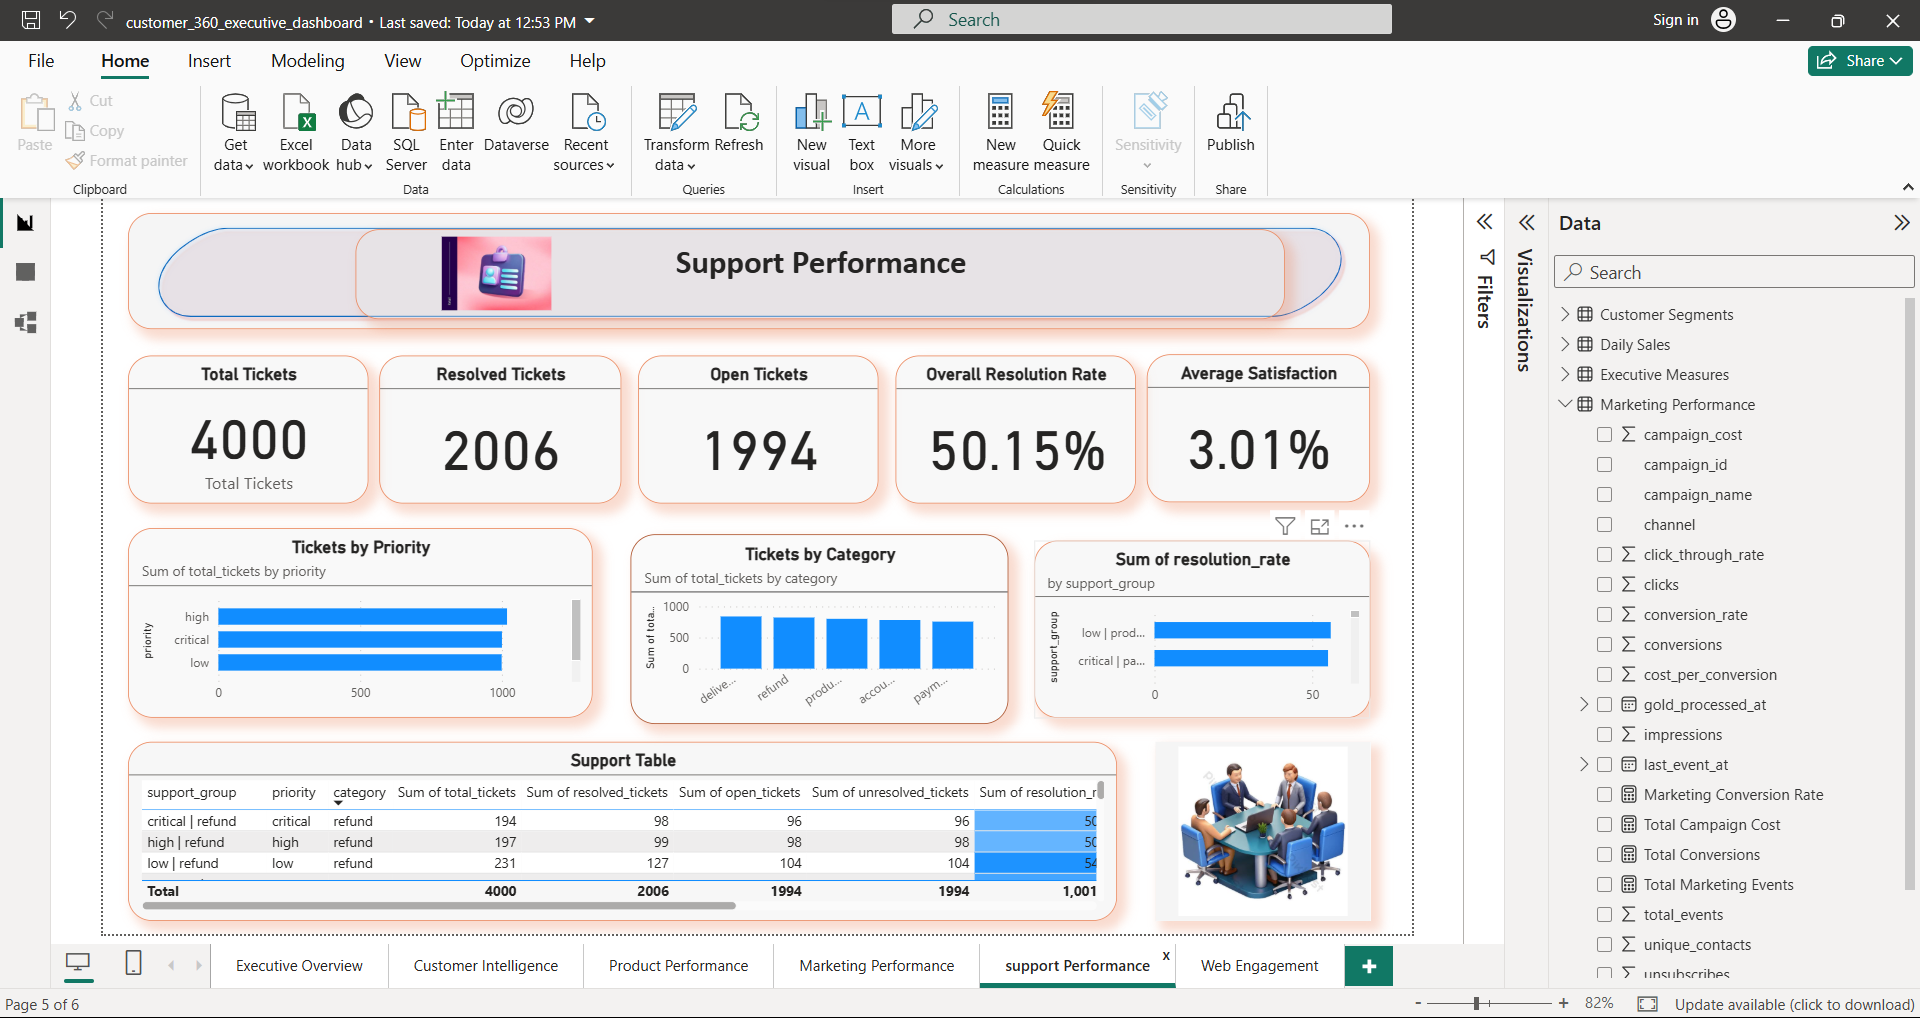

What the dashboard file says about the page in this screenshot:
{"tool":"powerbi","page":{"name":"support Performance","canvas":[1280,720],"ordinal":4},"visuals":[{"type":"card","title":"Total Tickets","fields":{"Values":["Support Performance.Total Tickets"]},"box":[24.8,153.5,235.3,144.7],"z":0},{"type":"card","title":"Resolved Tickets","fields":{"Values":["Support Performance.Resolved Tickets"]},"box":[270.4,153.5,236.8,144.7],"z":1000},{"type":"card","title":"Open Tickets","fields":{"Values":["Support Performance.Open Tickets"]},"box":[523.2,153.5,235.3,144.7],"z":2000},{"type":"card","title":"Overall Resolution Rate","fields":{"Values":["Support Performance.Overall Resolution Rate"]},"box":[774.6,153.5,235.3,144.7],"z":3000},{"type":"card","title":"Average Satisfaction","fields":{"Values":["Support Performance.Average Satisfaction %"]},"box":[1020.3,153.3,218.3,144.7],"z":4000},{"type":"clusteredBarChart","title":"Tickets by Priority","fields":{"Category":["Support Performance.priority"],"Y":["Sum(Support Performance.total_tickets)"]},"box":[24.8,323,454.5,185.6],"z":5000},{"type":"clusteredColumnChart","title":"Tickets by Category","fields":{"Category":["Support Performance.category"],"Y":["Sum(Support Performance.total_tickets)"]},"box":[515.9,328.8,369.8,185.6],"z":6000},{"type":"barChart","fields":{"Y":["Sum(Support Performance.resolution_rate)"],"Category":["Support Performance.support_group"]},"box":[910.5,334.7,328.8,173.9],"z":7000},{"type":"tableEx","title":"Support Table","fields":{"Values":["Support Performance.support_group","Support Performance.priority","Support Performance.category","Sum(Support Performance.total_tickets)","Sum(Support Performance.resolved_tickets)","Sum(Support Performance.open_tickets)","Sum(Support Performance.unresolved_tickets)","Sum(Support Performance.resolution_rate)","Sum(Support Performance.average_resolution_hours)","Sum(Support Performance.average_satisfaction)","Sum(Support Performance.unique_customers)"]},"box":[24.8,532,967.5,175.4],"z":8000},{"type":"shape","box":[24.8,14.6,1214.5,114],"z":8001},{"type":"textbox","box":[247,30.7,909.1,87.7],"z":8002},{"type":"image","box":[289.4,33.6,190,81.8],"z":8003},{"type":"image","box":[1028.9,532,210.5,175.4],"z":8004}]}

Visuals, with their boxes on the page's 1280x720 design canvas (x1, y1, x2, y2). These are canvas units, not pixel positions in the 1920x1018 screenshot, which may show the page scaled, cropped or inside an application window:
"Total Tickets" card: (x1=25, y1=154, x2=260, y2=298)
"Resolved Tickets" card: (x1=270, y1=154, x2=507, y2=298)
"Open Tickets" card: (x1=523, y1=154, x2=758, y2=298)
"Overall Resolution Rate" card: (x1=775, y1=154, x2=1010, y2=298)
"Average Satisfaction" card: (x1=1020, y1=153, x2=1239, y2=298)
"Tickets by Priority" clusteredBarChart: (x1=25, y1=323, x2=479, y2=509)
"Tickets by Category" clusteredColumnChart: (x1=516, y1=329, x2=886, y2=514)
barChart - Sum(Support Performance.resolution_rate) x Support Performance.support_group: (x1=910, y1=335, x2=1239, y2=509)
"Support Table" tableEx: (x1=25, y1=532, x2=992, y2=707)
shape: (x1=25, y1=15, x2=1239, y2=129)
textbox: (x1=247, y1=31, x2=1156, y2=118)
image: (x1=289, y1=34, x2=479, y2=115)
image: (x1=1029, y1=532, x2=1239, y2=707)
